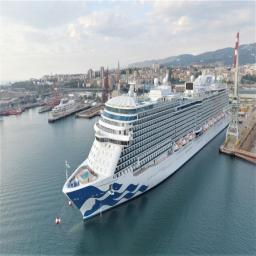cruises: (64, 66, 234, 226)
